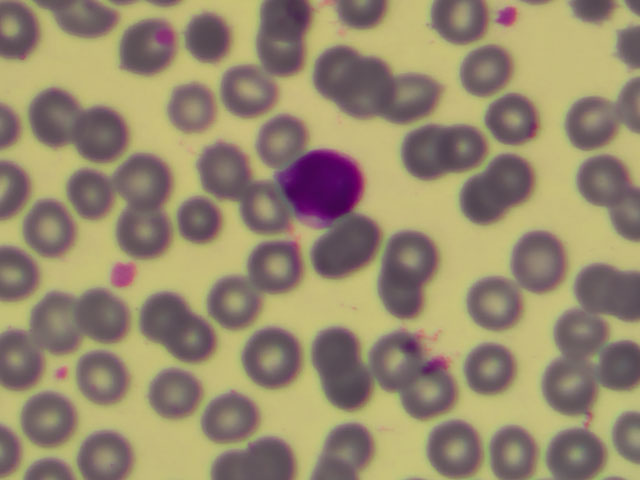Platelets: (110, 261, 140, 286), (497, 3, 521, 32), (56, 361, 72, 384)
RBC: (23, 86, 84, 147), (70, 103, 131, 164), (56, 165, 117, 226), (23, 200, 84, 261), (139, 365, 200, 426), (161, 80, 222, 141), (121, 19, 182, 80), (182, 9, 243, 70), (216, 56, 277, 117), (250, 22, 311, 83), (305, 44, 366, 105), (329, 59, 390, 120), (385, 69, 446, 130), (395, 125, 456, 186), (432, 118, 493, 179), (481, 87, 542, 148), (456, 49, 517, 110), (558, 92, 619, 153), (572, 153, 633, 214), (490, 153, 551, 214), (457, 174, 518, 235), (388, 226, 449, 287), (375, 264, 436, 325), (330, 212, 391, 273), (242, 239, 303, 300), (205, 273, 266, 334), (232, 187, 293, 248), (198, 138, 259, 199), (164, 192, 225, 253), (111, 200, 172, 261), (120, 154, 181, 215), (138, 282, 199, 343), (165, 315, 226, 376), (73, 289, 134, 350), (22, 290, 83, 351), (76, 419, 137, 480), (20, 394, 81, 455), (197, 385, 258, 446), (239, 327, 300, 388), (305, 319, 366, 380), (319, 361, 380, 422), (314, 415, 375, 476), (363, 333, 424, 394), (401, 358, 462, 419), (469, 334, 530, 395), (466, 278, 527, 339), (512, 230, 573, 291), (541, 304, 602, 365), (540, 349, 601, 410), (541, 419, 602, 480), (481, 419, 542, 480), (432, 419, 493, 480), (583, 254, 640, 319), (425, 1, 486, 61), (52, 1, 120, 41), (1, 1, 39, 68), (235, 437, 294, 480), (258, 2, 314, 29)
WBC: (279, 144, 365, 224)
